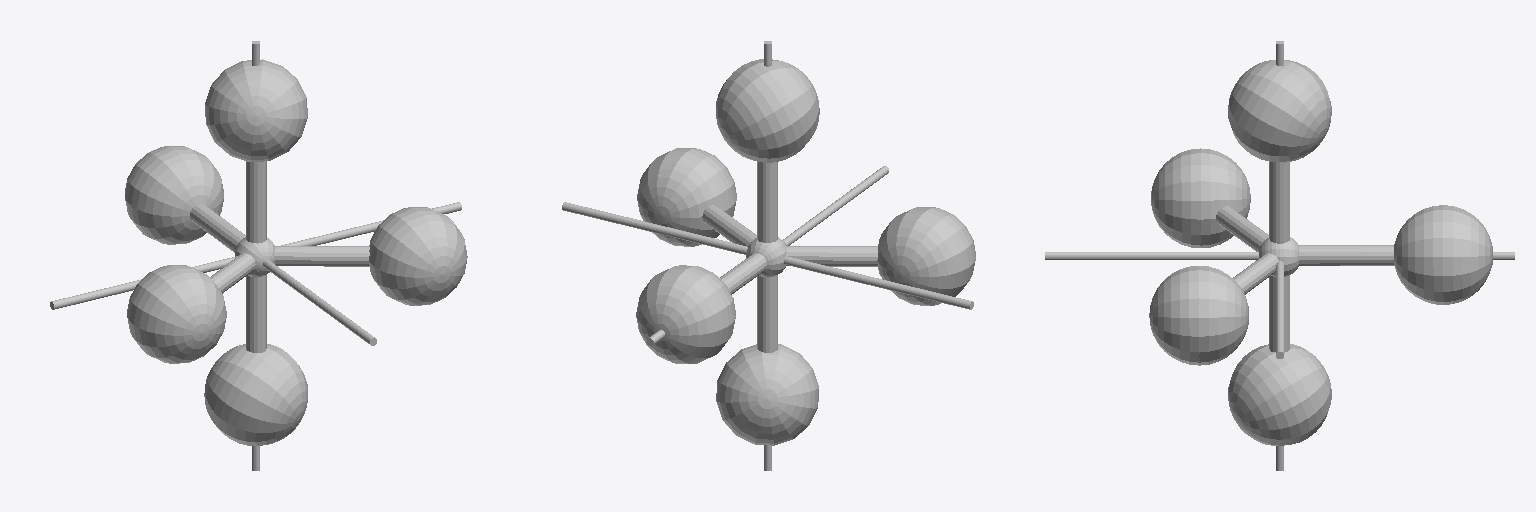
File: trpev_trigbipyr.obj
3 views of the same model, side by side, from view 1: azimuth 30°, elevation 25°; view 2: azimuth 150°, elevation 25°; view 3: azimuth 270°, elevation 25° (orthographic).
Visible parts, largest first — view 1: ShapeSphere.015_ShapeSphere.016, Cylinder_004_001.003_Cylinder.001; view 2: ShapeSphere.015_ShapeSphere.016, Cylinder_004_001.003_Cylinder.001; view 3: ShapeSphere.015_ShapeSphere.016, Cylinder_004_001.003_Cylinder.001.
Part boxes in pixels (bbox=[...]): ShapeSphere.015_ShapeSphere.016: bbox=[125, 59, 467, 445]; Cylinder_004_001.003_Cylinder.001: bbox=[50, 41, 461, 470]; ShapeSphere.015_ShapeSphere.016: bbox=[636, 59, 975, 445]; Cylinder_004_001.003_Cylinder.001: bbox=[562, 41, 973, 470]; ShapeSphere.015_ShapeSphere.016: bbox=[1149, 60, 1492, 445]; Cylinder_004_001.003_Cylinder.001: bbox=[1045, 41, 1514, 470].
Size of the model in its own units: 12.54 by 12.54 by 12.54.